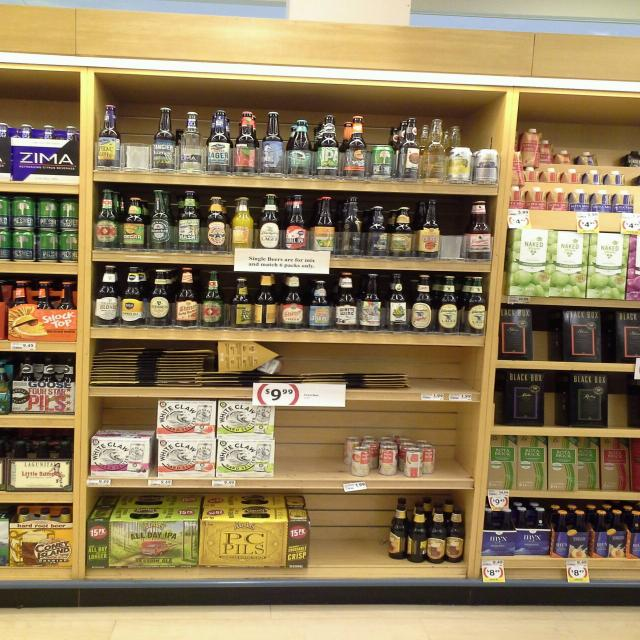void: (346, 496, 384, 592), (311, 412, 347, 491), (314, 497, 344, 590), (281, 412, 309, 488), (412, 348, 448, 402), (610, 376, 637, 438), (443, 425, 469, 489), (452, 349, 484, 401), (441, 200, 461, 269), (127, 106, 145, 182)
